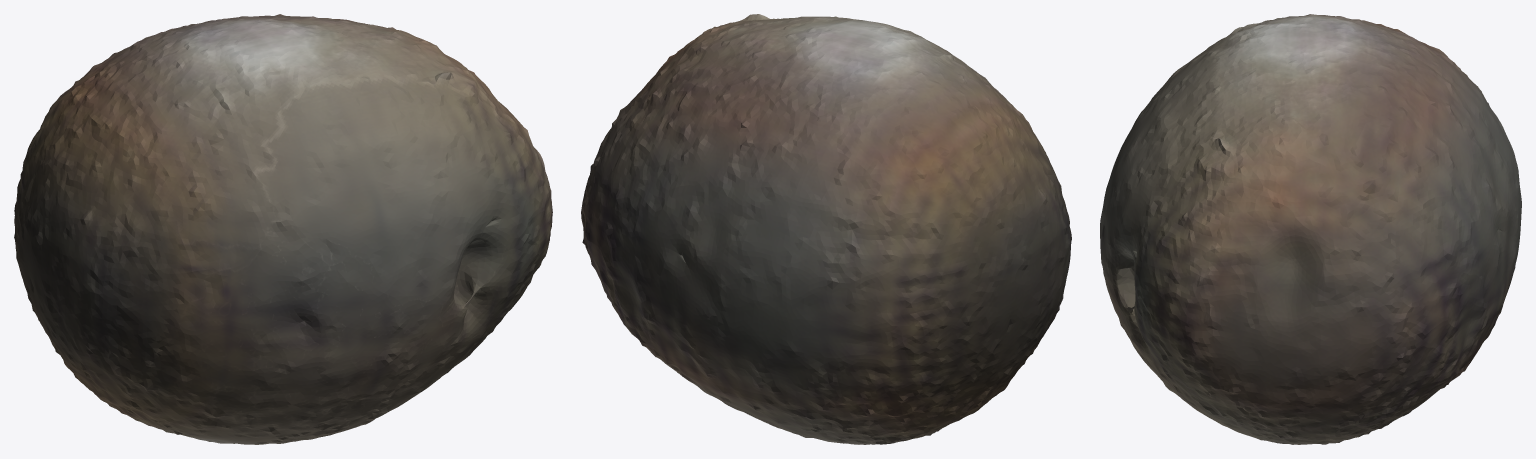
File: IMG_SEG_23.glb
3 views of the same model, side by side, from view 1: azimuth 30°, elevation 25°; view 2: azimuth 150°, elevation 25°; view 3: azimuth 270°, elevation 25° (orthographic). The views are drawn at different scales.
Bounding box in the file's own units: 0.9089 × 0.7551 × 0.7694.
1 material, 1 textured.
